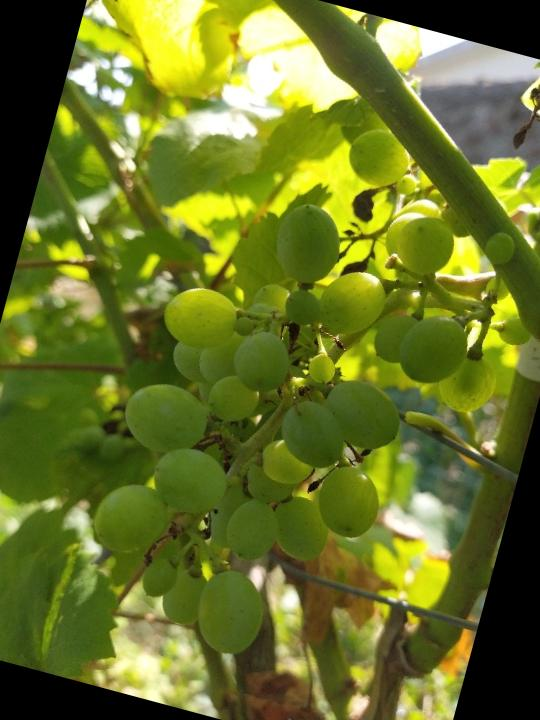grape: (63, 83, 540, 716)
